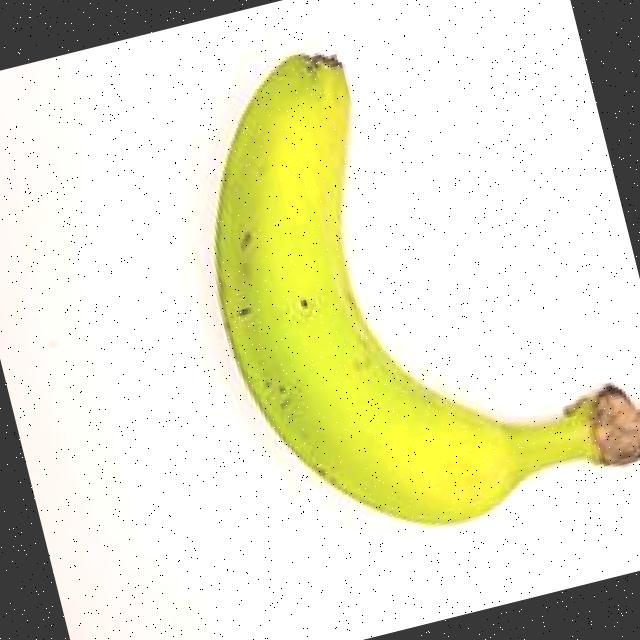Unripe: (139, 0, 640, 583)
